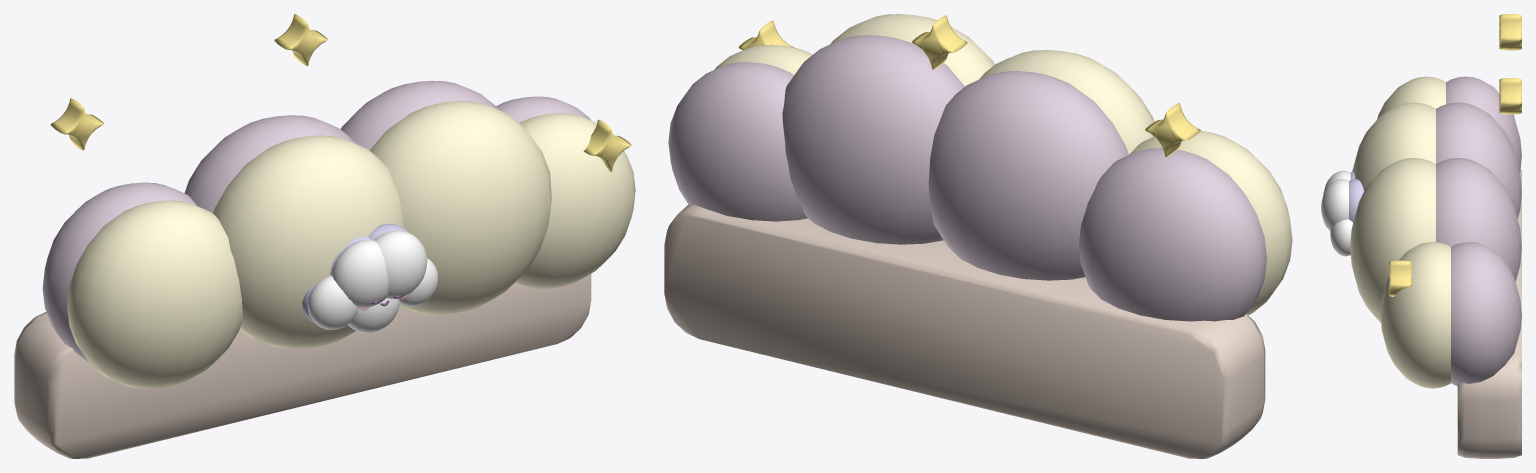
File: decor_1_star.glb
The picture shows the model from 3 angles, left to right: view 1: azimuth 30°, elevation 25°; view 2: azimuth 150°, elevation 25°; view 3: azimuth 270°, elevation 25°; orthographic projection. The views are drawn at different scales.
Visible parts, largest first — view 1: decor_1_star; view 2: decor_1_star; view 3: decor_1_star.
Boxes of the visible parts, left/top/right/bottom form: decor_1_star: left=14, top=14, right=635, bottom=458; decor_1_star: left=664, top=14, right=1292, bottom=458; decor_1_star: left=1321, top=14, right=1521, bottom=458.
Bounding box in the file's own units: 19.94 × 12.21 × 7.66.
